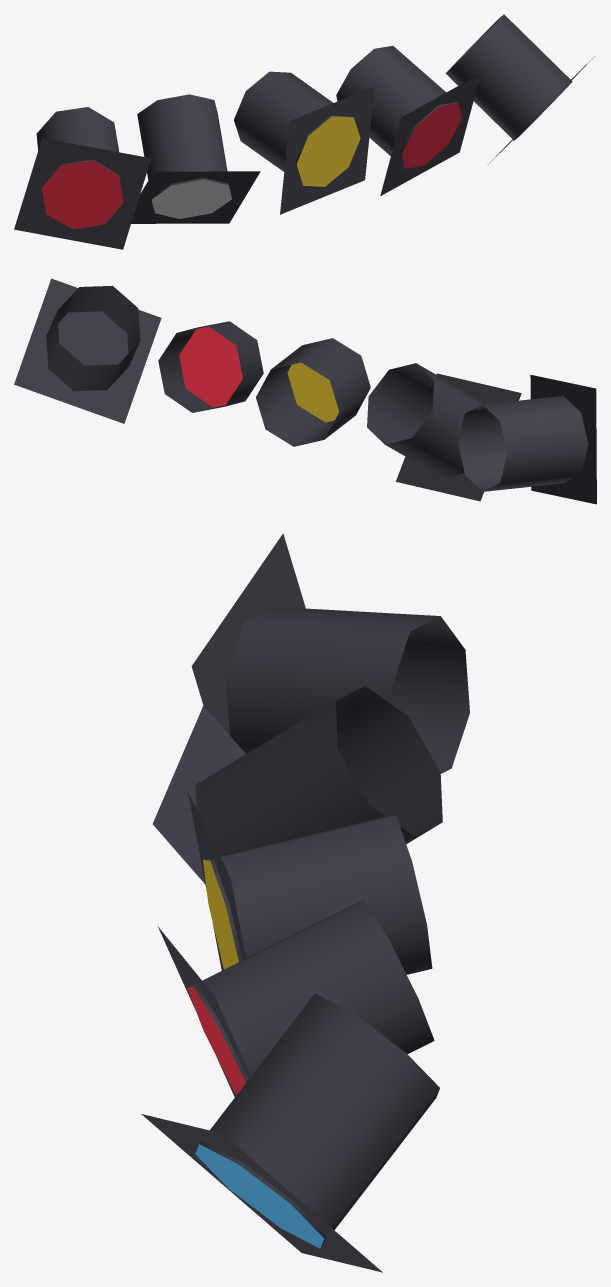
The model's file is lights_mesh.fbx.
3 views of the same model, one above another, from view 1: azimuth 30°, elevation 25°; view 2: azimuth 150°, elevation 25°; view 3: azimuth 270°, elevation 25° (orthographic). The views are drawn at different scales.
Visible parts, largest first — view 1: lights_mesh; view 2: lights_mesh; view 3: lights_mesh.
Boxes of the visible parts, <box> form: lights_mesh: <box>14,14,594,249</box>; lights_mesh: <box>14,278,596,504</box>; lights_mesh: <box>141,533,469,1272</box>.
Size of the model in its own units: 2.33 by 0.5655 by 0.6003.
